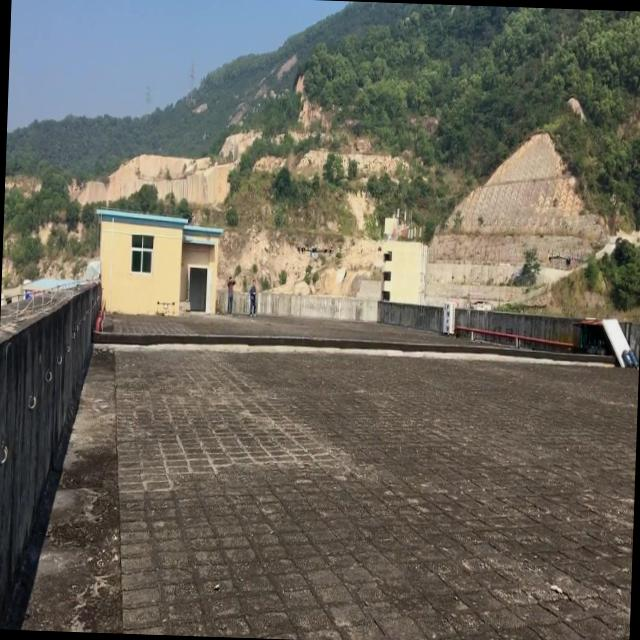drone: (296, 243, 332, 267)
